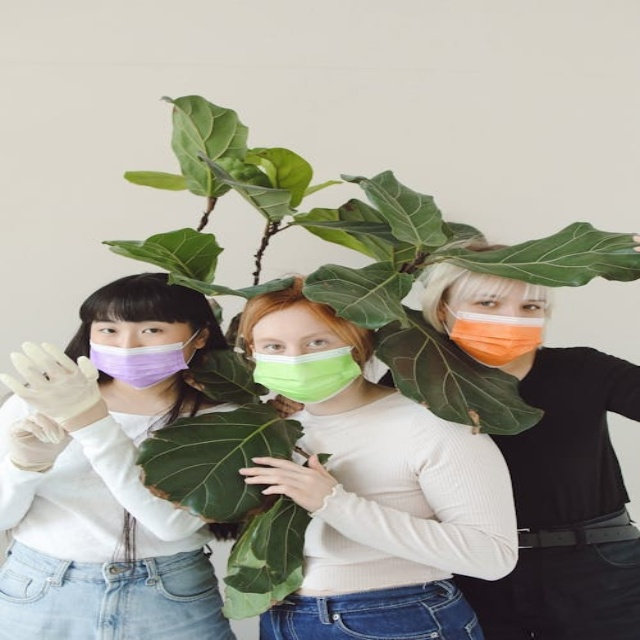Guantes: (2, 343, 106, 435), (5, 410, 79, 473)
Mascara: (90, 329, 205, 389), (249, 345, 365, 403), (443, 305, 546, 365)
Sin_gafas: (453, 290, 549, 317), (250, 329, 340, 352), (88, 319, 180, 340)
Sin_guantes: (245, 452, 338, 515)
